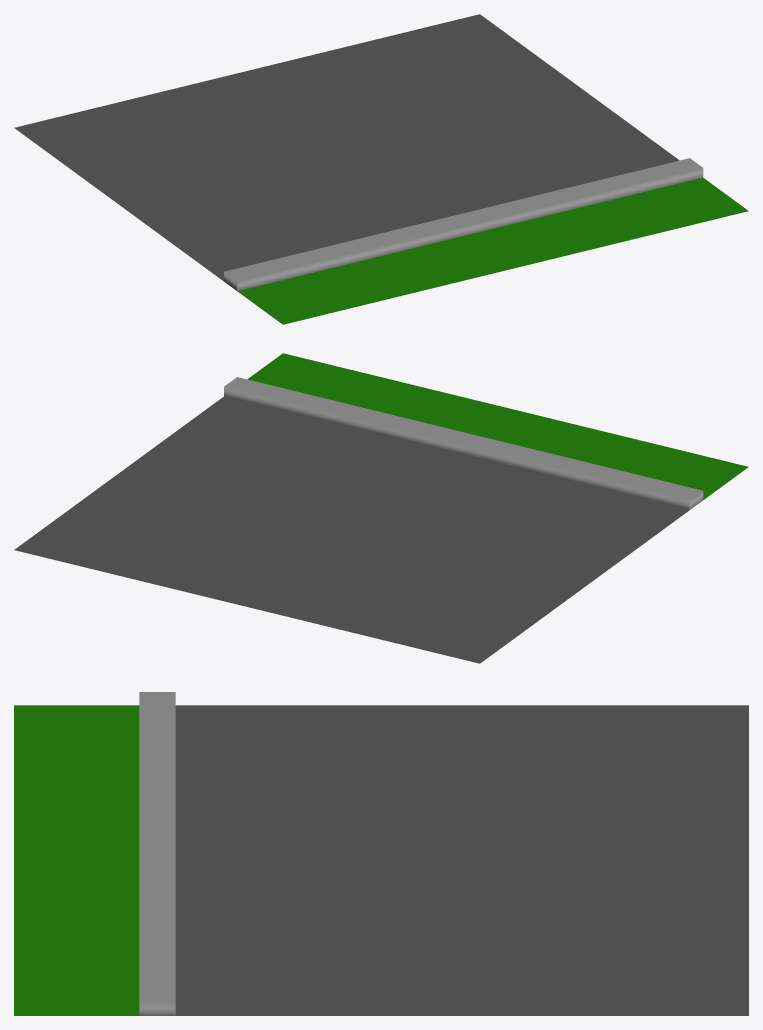
The model's file is ground_pathSide.fbx.
3 renders of one model, top to bottom at view 1: azimuth 30°, elevation 25°; view 2: azimuth 150°, elevation 25°; view 3: azimuth 270°, elevation 25°, orthographic. The views are drawn at different scales.
Parts seen in each view (by area): view 1: ground_pathSide; view 2: ground_pathSide; view 3: ground_pathSide.
Part boxes in pixels (x1=…): ground_pathSide: x1=14, y1=14, x2=748, y2=324; ground_pathSide: x1=14, y1=353, x2=748, y2=663; ground_pathSide: x1=14, y1=692, x2=748, y2=1015.
Bounding box in the file's own units: 100 × 2 × 100.
